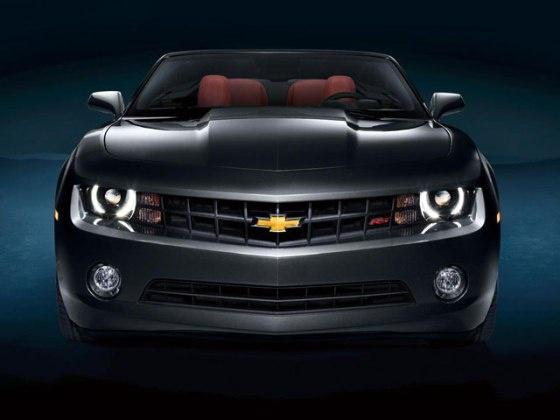Car: (32, 31, 515, 351)
